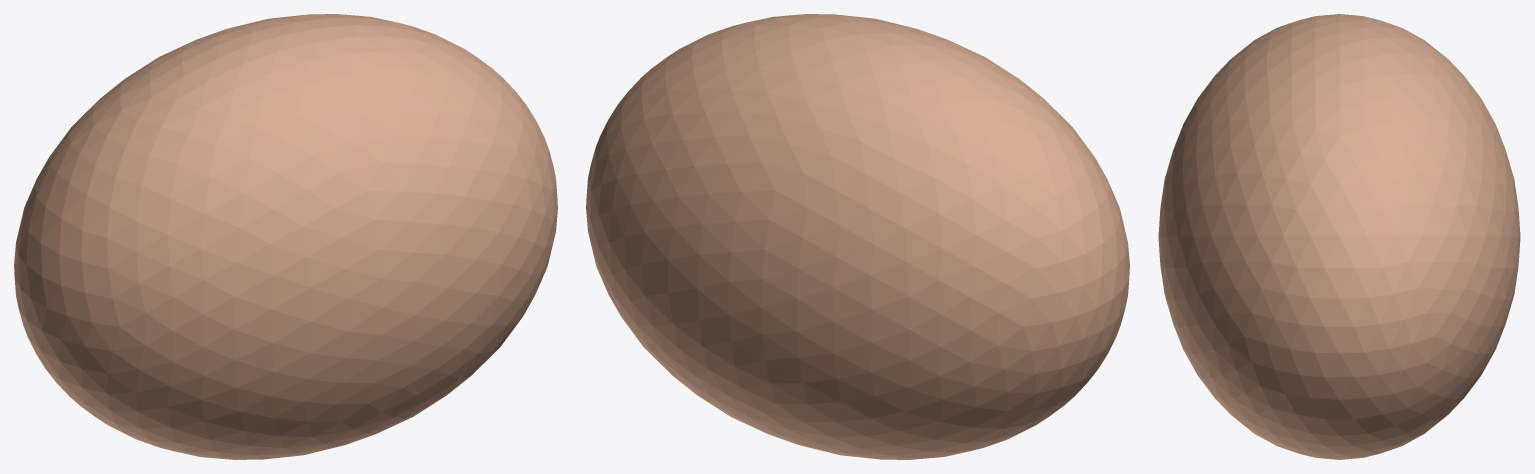
The model's file is wrist.glb.
3 views of the same model, side by side, from view 1: azimuth 30°, elevation 25°; view 2: azimuth 150°, elevation 25°; view 3: azimuth 270°, elevation 25° (orthographic). The views are drawn at different scales.
Visible parts, largest first — view 1: wrist_0; view 2: wrist_0; view 3: wrist_0.
Part boxes in pixels (left/top/right/bottom): wrist_0: left=14, top=14, right=557, bottom=459; wrist_0: left=586, top=14, right=1129, bottom=459; wrist_0: left=1158, top=14, right=1520, bottom=459.
Bounding box in the file's own units: 0.085 × 0.0646 × 0.0558.
